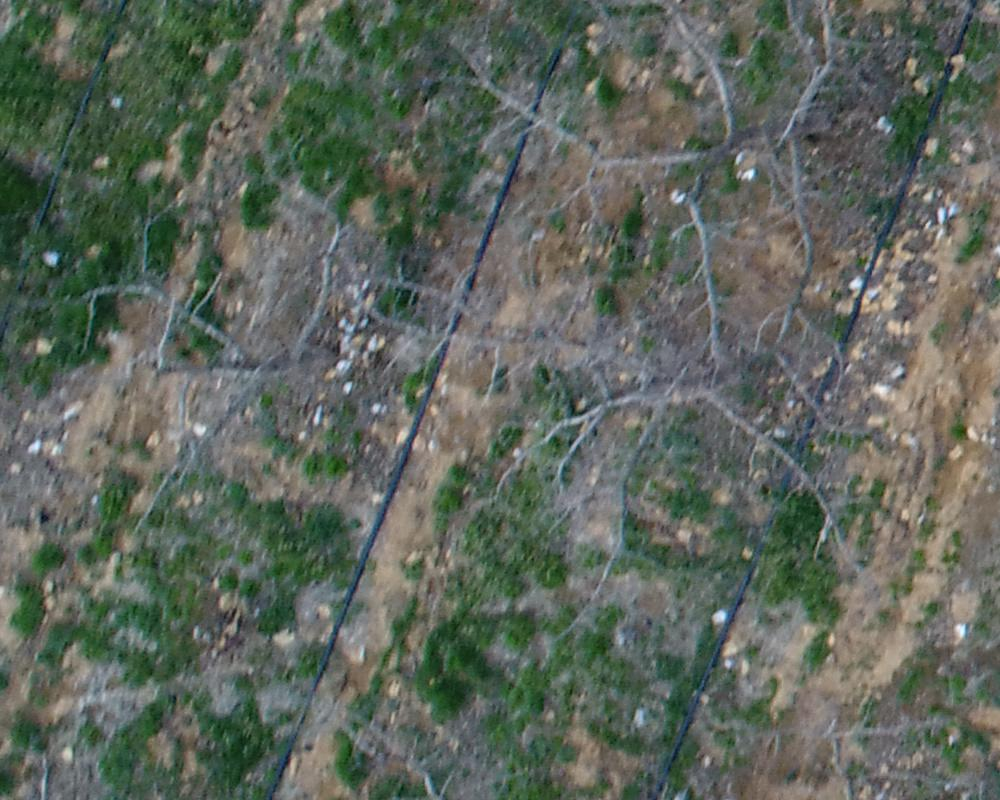apple: (372, 193, 890, 587), (461, 10, 875, 364), (73, 190, 384, 504)
